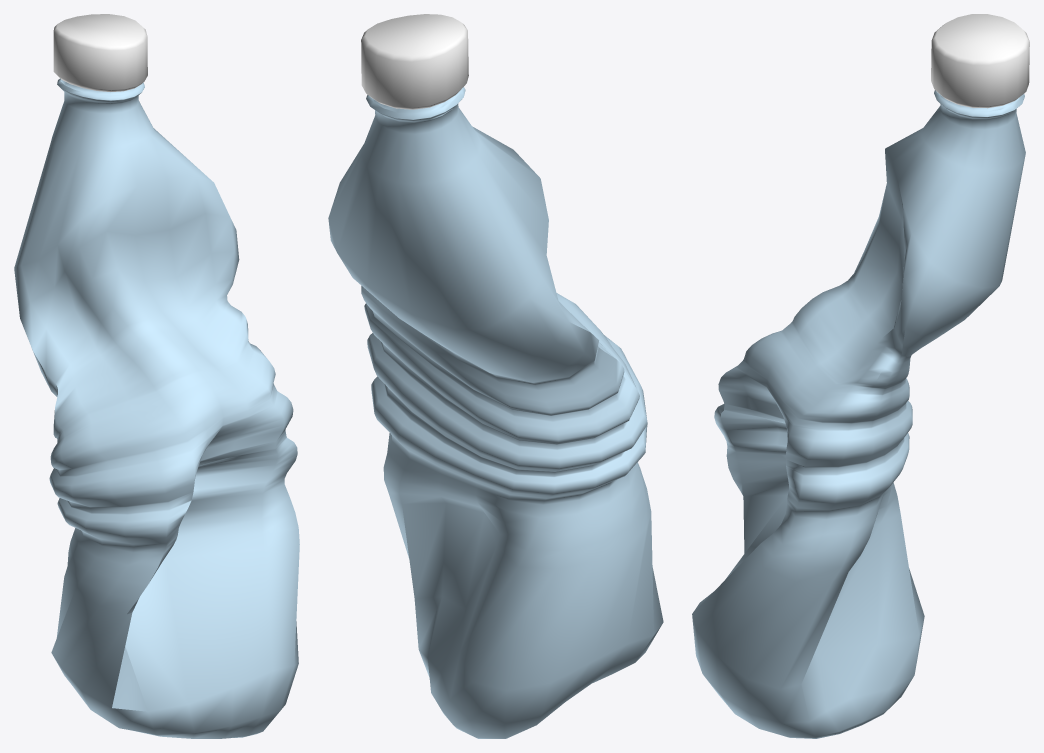
File: bootle3.fbx
3 renders of one model, left to right at view 1: azimuth 30°, elevation 25°; view 2: azimuth 150°, elevation 25°; view 3: azimuth 270°, elevation 25°, orthographic. The views are drawn at different scales.
Visible parts, largest first — view 1: Circle.002; view 2: Circle.002; view 3: Circle.002.
Boxes of the visible parts, <box> form: Circle.002: <box>14,14,299,738</box>; Circle.002: <box>328,14,663,738</box>; Circle.002: <box>692,14,1029,738</box>.
Bounding box in the file's own units: 0.6378 × 1.73 × 0.7829.
